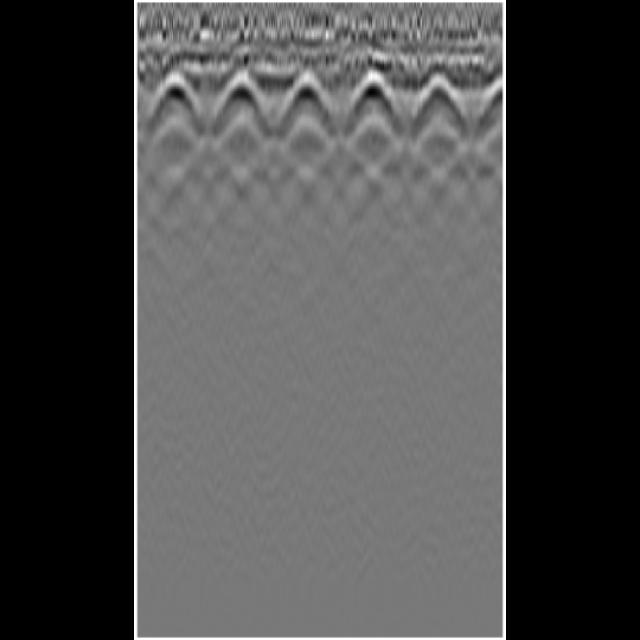hyperbola: (336, 64, 406, 134), (205, 65, 269, 128), (277, 66, 335, 130), (145, 70, 207, 128), (412, 66, 462, 122)
